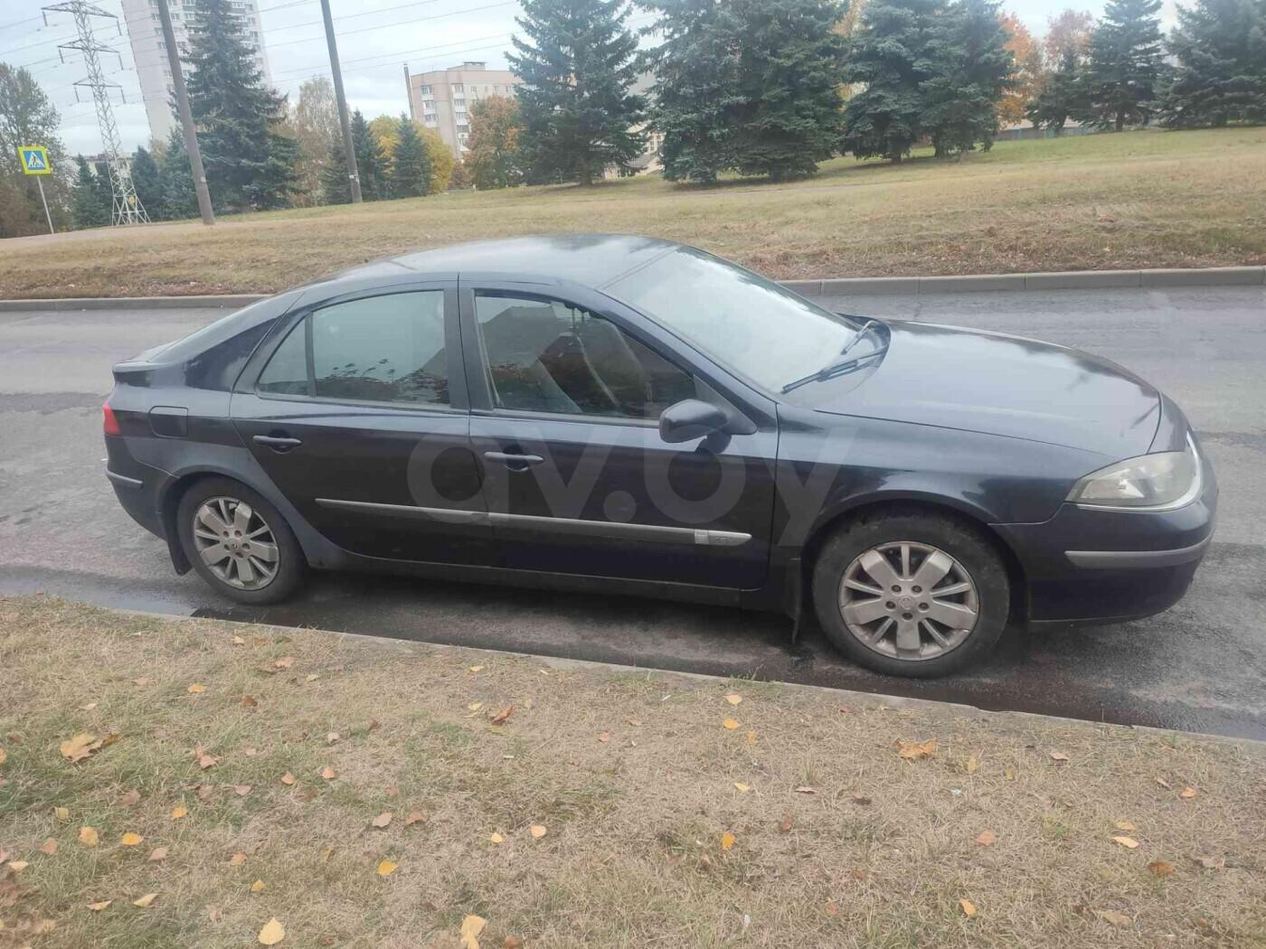Laguna_2005-2007: (89, 226, 1225, 677)
